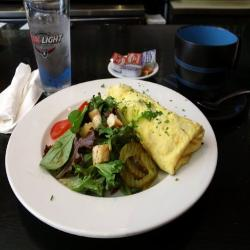omelette: (108, 86, 205, 176)
salad: (49, 105, 143, 193)
